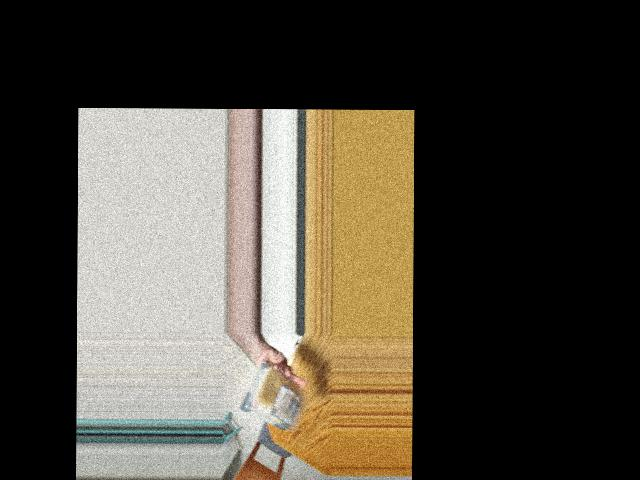cheese: (244, 363, 300, 435)
